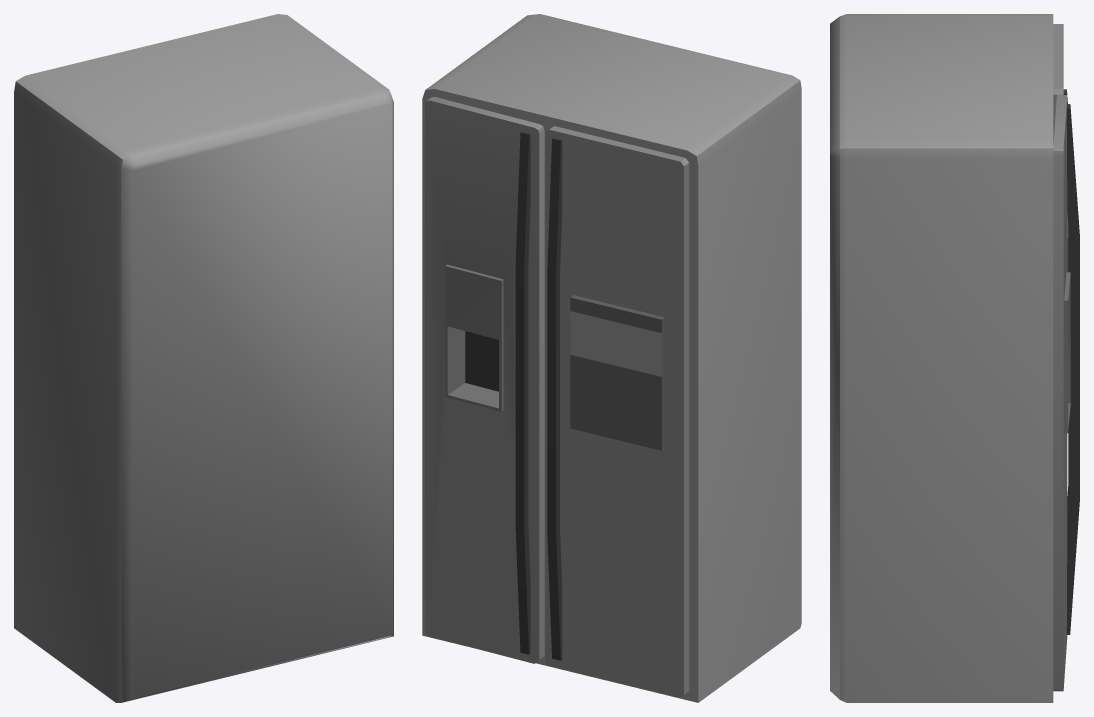
The model's file is Fridge_02.fbx.
The picture shows the model from 3 angles, left to right: view 1: azimuth 30°, elevation 25°; view 2: azimuth 150°, elevation 25°; view 3: azimuth 270°, elevation 25°; orthographic projection.
Parts seen in each view (by area): view 1: Fridge_02; view 2: Fridge_02, Fridge_02_Door2, Fridge_02_Door1; view 3: Fridge_02, Fridge_02_Door1, Fridge_02_Door2.
Part boxes in pixels (<box>): Fridge_02: <box>14,14,393,702</box>; Fridge_02: <box>422,14,801,702</box>; Fridge_02_Door2: <box>545,126,689,697</box>; Fridge_02_Door1: <box>425,97,544,663</box>; Fridge_02: <box>830,14,1053,702</box>; Fridge_02_Door1: <box>1053,94,1079,691</box>; Fridge_02_Door2: <box>1053,24,1071,558</box>.
Size of what is drawn, in the model's own units: 105 by 199 by 81.17.
